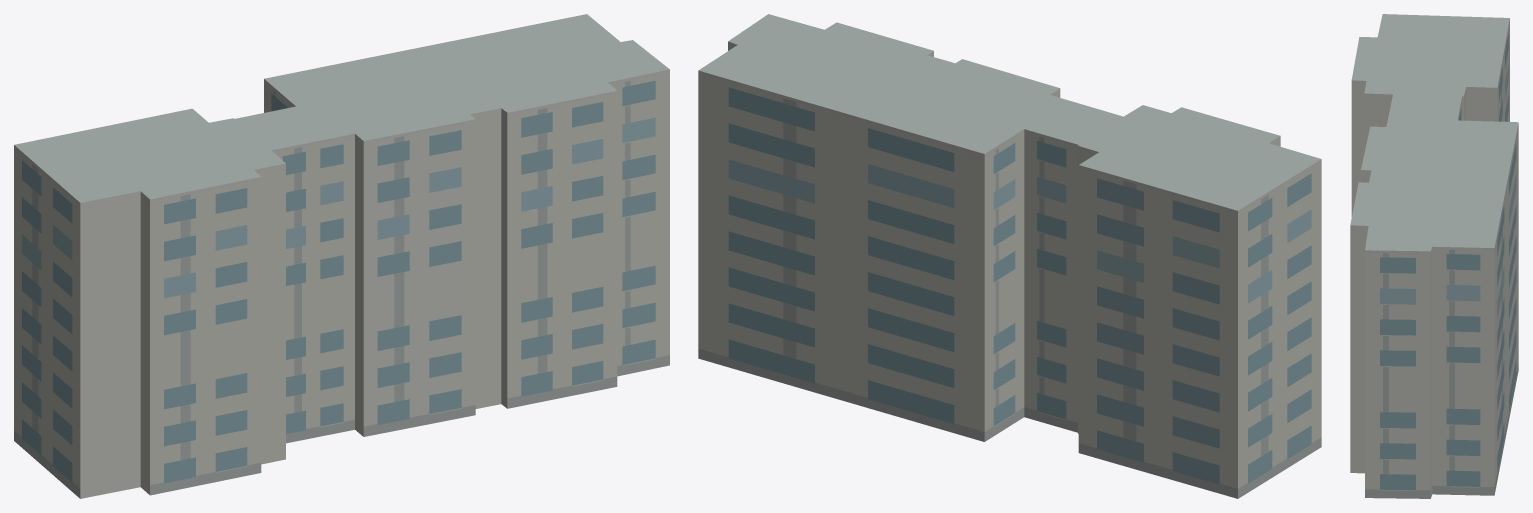
Rendered from survey-upis-32834279.glb.
3 renders of one model, left to right at view 1: azimuth 30°, elevation 25°; view 2: azimuth 150°, elevation 25°; view 3: azimuth 270°, elevation 25°, orthographic. The views are drawn at different scales.
Visible parts, largest first — view 1: survey-upis-32834279.tmp; view 2: survey-upis-32834279.tmp; view 3: survey-upis-32834279.tmp.
Part boxes in pixels (<box>): survey-upis-32834279.tmp: <box>14,14,669,498</box>; survey-upis-32834279.tmp: <box>698,14,1321,498</box>; survey-upis-32834279.tmp: <box>1350,14,1518,498</box>.
Size of the model in its own units: 50.16 by 24.4 by 15.05.
